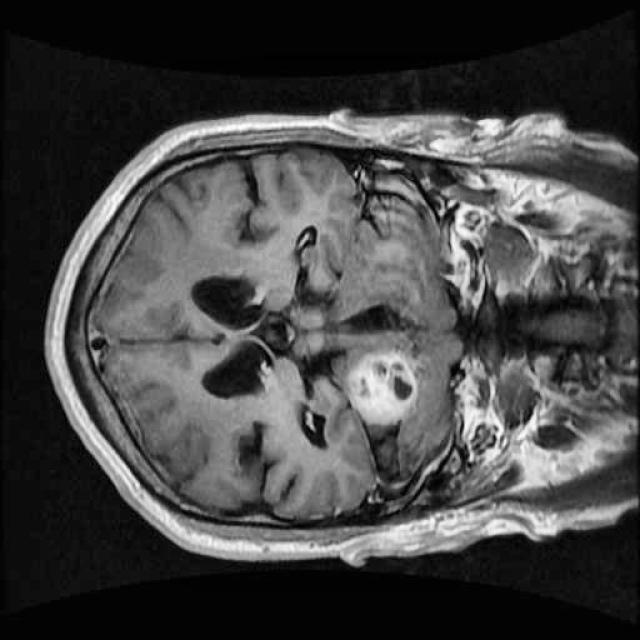Tumor: (340, 340, 426, 438)
